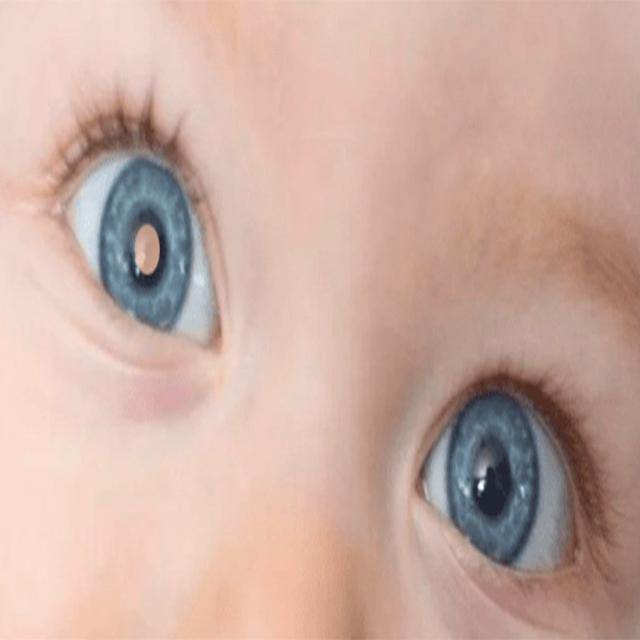reflexo-alterado: (92, 126, 203, 363)
reflexo-normal: (447, 351, 566, 594)
